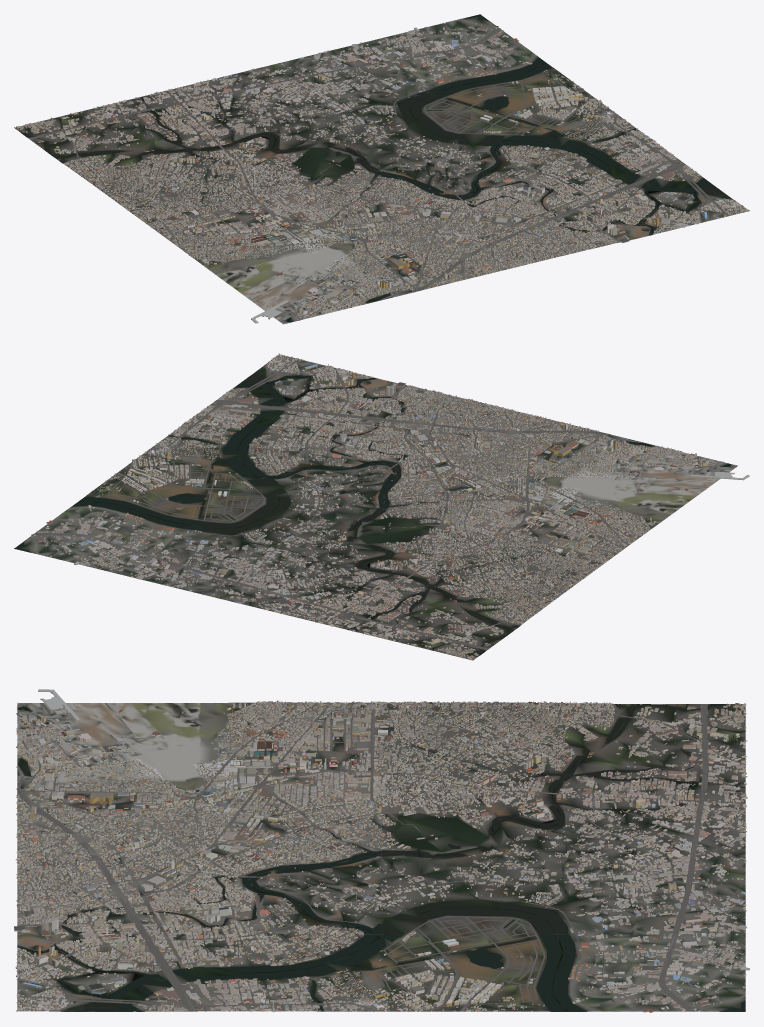
3 renders of one model, top to bottom at view 1: azimuth 30°, elevation 25°; view 2: azimuth 150°, elevation 25°; view 3: azimuth 270°, elevation 25°, orthographic. The views are drawn at different scales.
Visible parts, largest first — view 1: ground, buildings, roads, water; view 2: ground, buildings, roads, water; view 3: ground, buildings, roads, water.
Boxes of the visible parts, x1=… form: ground: x1=14, y1=17, x2=748, y2=324; buildings: x1=14, y1=22, x2=749, y2=323; roads: x1=21, y1=27, x2=735, y2=323; water: x1=21, y1=14, x2=731, y2=322; ground: x1=14, y1=355, x2=737, y2=660; buildings: x1=31, y1=353, x2=749, y2=660; roads: x1=33, y1=359, x2=735, y2=658; water: x1=14, y1=367, x2=731, y2=655; ground: x1=17, y1=702, x2=745, y2=1011; buildings: x1=14, y1=689, x2=749, y2=1012; roads: x1=16, y1=702, x2=745, y2=1011; water: x1=17, y1=704, x2=745, y2=1011.
Size of the model in its own units: 5858 by 90.47 by 5659.
